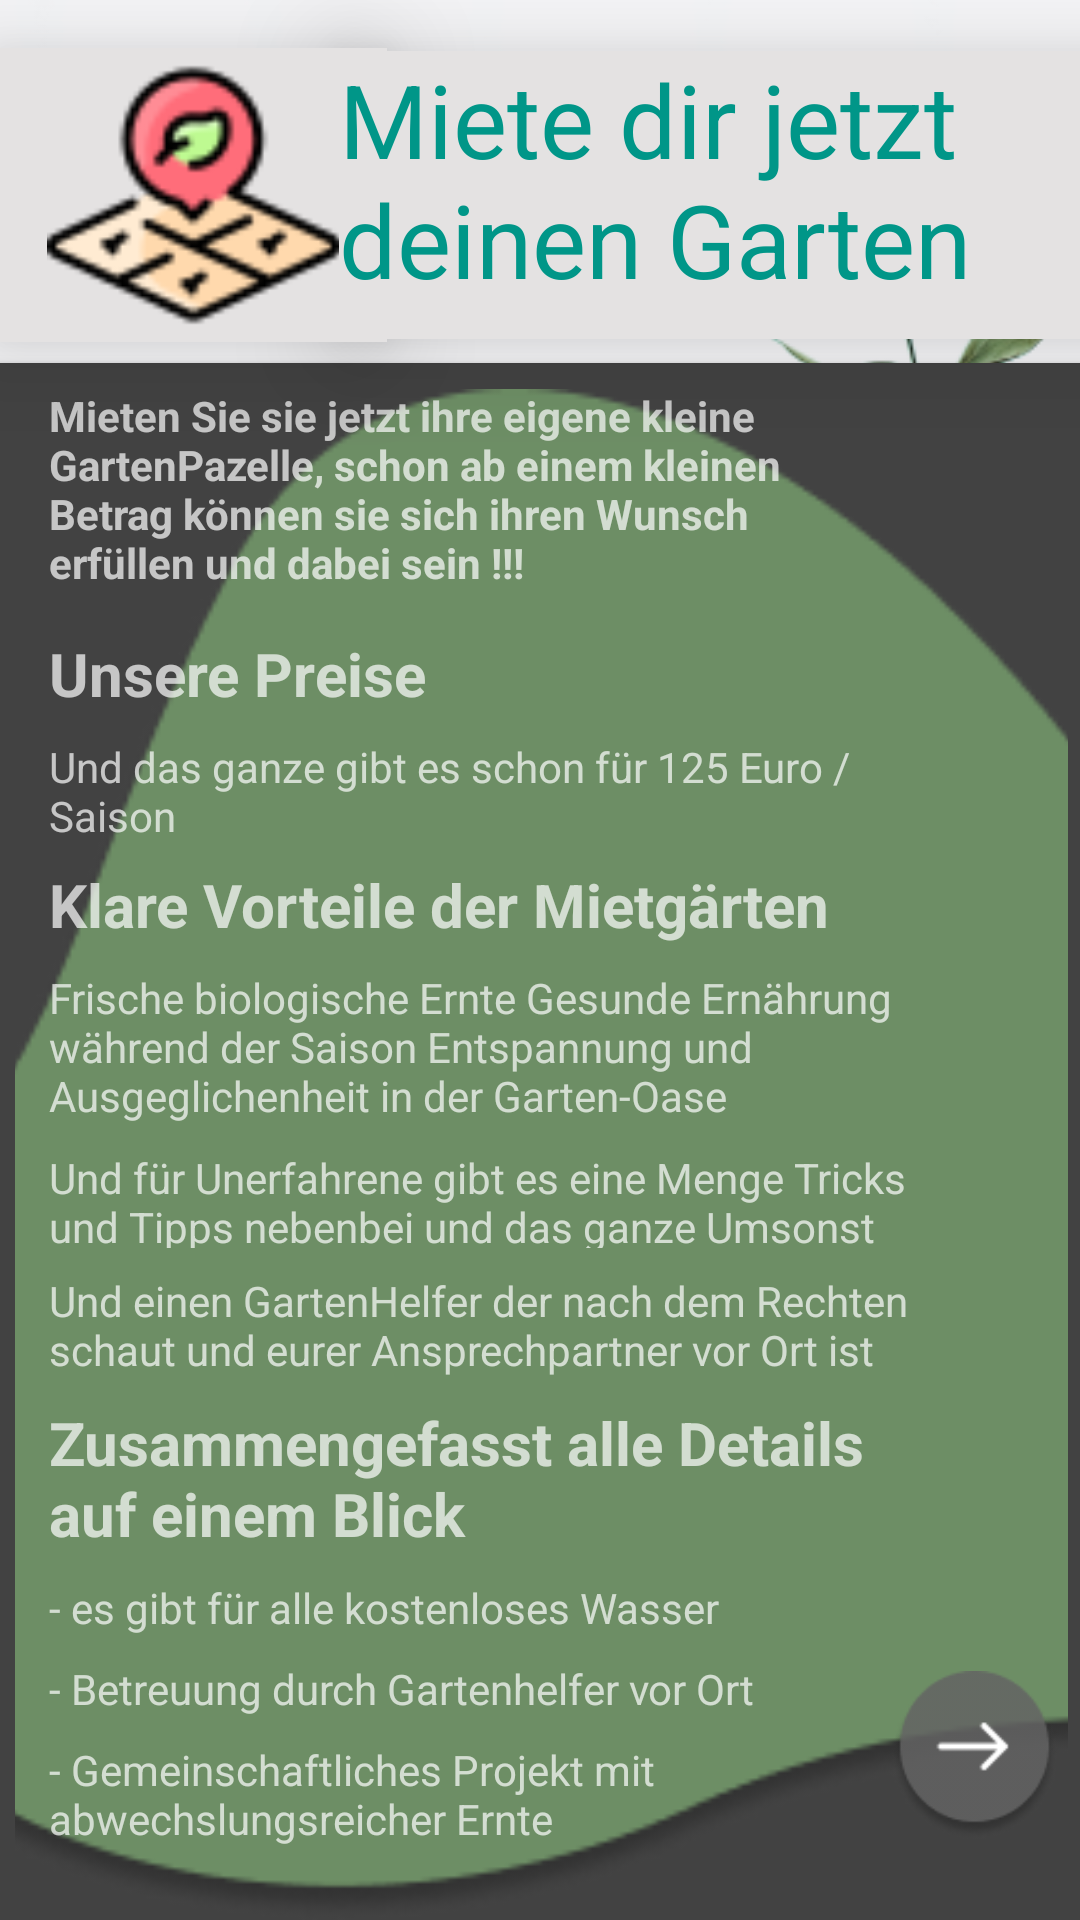

Locate icon controls on the screen. Image size 1080*1920, boxes as {"x1": x1, "y1": y1, "x2": x2, "y2": y2}.
arrow: {"x1": 880, "y1": 1671, "x2": 1068, "y2": 1821}
field: {"x1": 47, "y1": 66, "x2": 387, "y2": 324}
